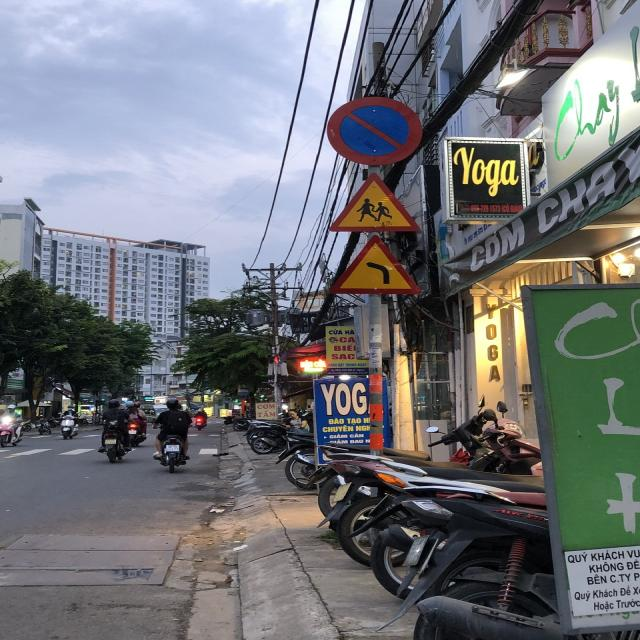Bien bao cam do xe: (318, 89, 429, 169)
Bien bao cho ngoat nguy hiem: (322, 233, 422, 303)
Bien bao tre em: (319, 168, 426, 238)
